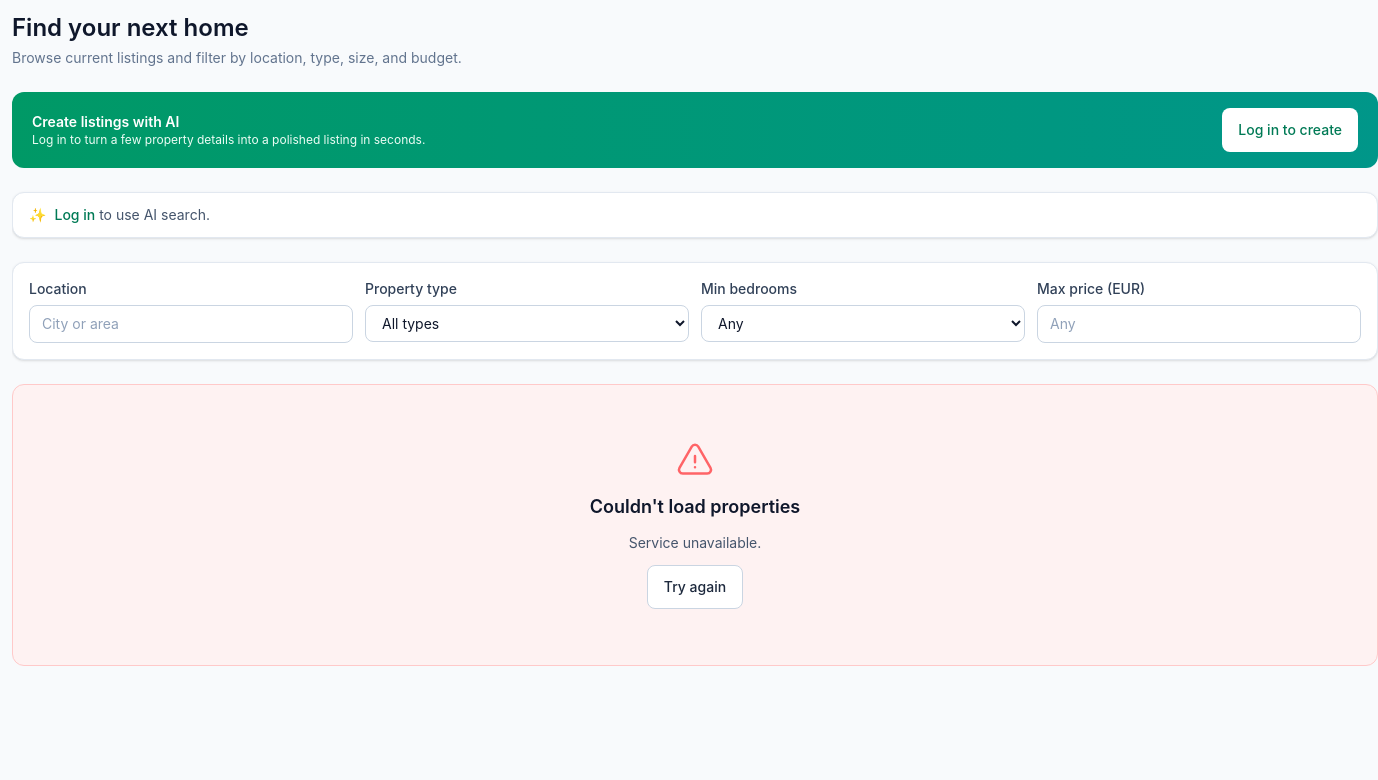
HomePage › shows an error state with a retry button when the request fails
Expected: the message "Couldn't load properties Service unavailable. Try again" is shown, [12,384,1377,666]
Expected: the heading "Couldn't load properties" is shown, [590,493,800,521]
Click the button "Try again": (695, 587) [647,565,743,609]
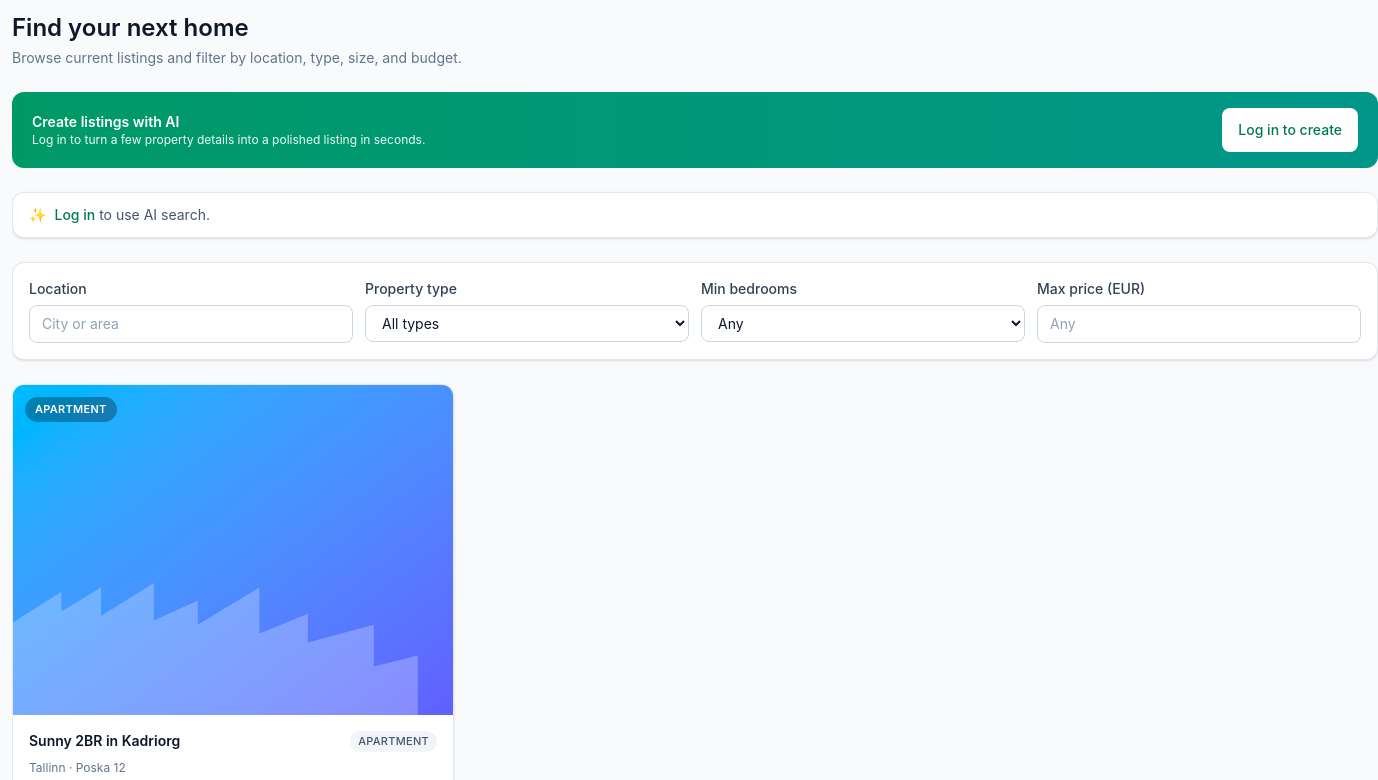
Expected: the heading "Sunny 2BR in Kadriorg" is shown, [29,731,180,751]
